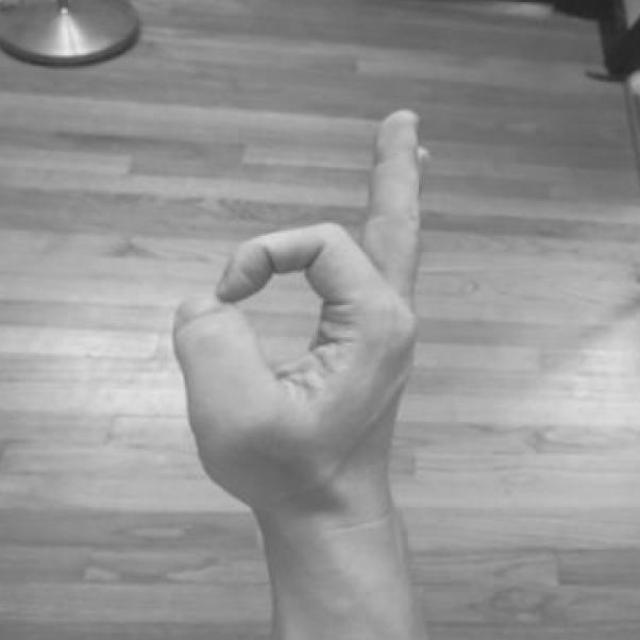F: (141, 100, 451, 533)
